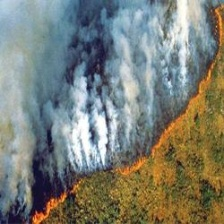fire: (124, 82, 203, 175), (16, 193, 68, 222), (208, 6, 224, 85)
smoke: (1, 2, 202, 172)
